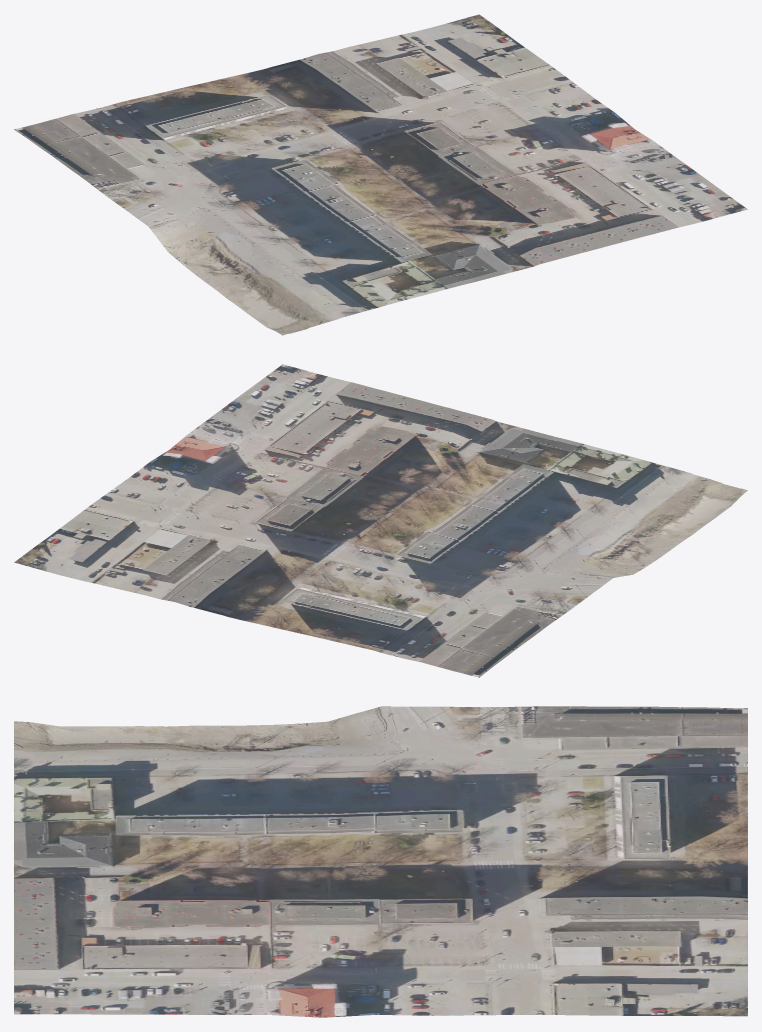
File: CM_Terrain_24488001_6821432.fbx
The picture shows the model from 3 angles, top to bottom: view 1: azimuth 30°, elevation 25°; view 2: azimuth 150°, elevation 25°; view 3: azimuth 270°, elevation 25°; orthographic projection. The views are drawn at different scales.
Parts seen in each view (by area): view 1: CM_Terrain_24488001_6821432_LOD0; view 2: CM_Terrain_24488001_6821432_LOD0; view 3: CM_Terrain_24488001_6821432_LOD0.
Boxes of the visible parts, <box> form: CM_Terrain_24488001_6821432_LOD0: <box>14,14,747,335</box>; CM_Terrain_24488001_6821432_LOD0: <box>14,364,747,677</box>; CM_Terrain_24488001_6821432_LOD0: <box>14,706,747,1017</box>.
Size of what is drawn, in the model's own units: 205 by 7.45 by 205.
